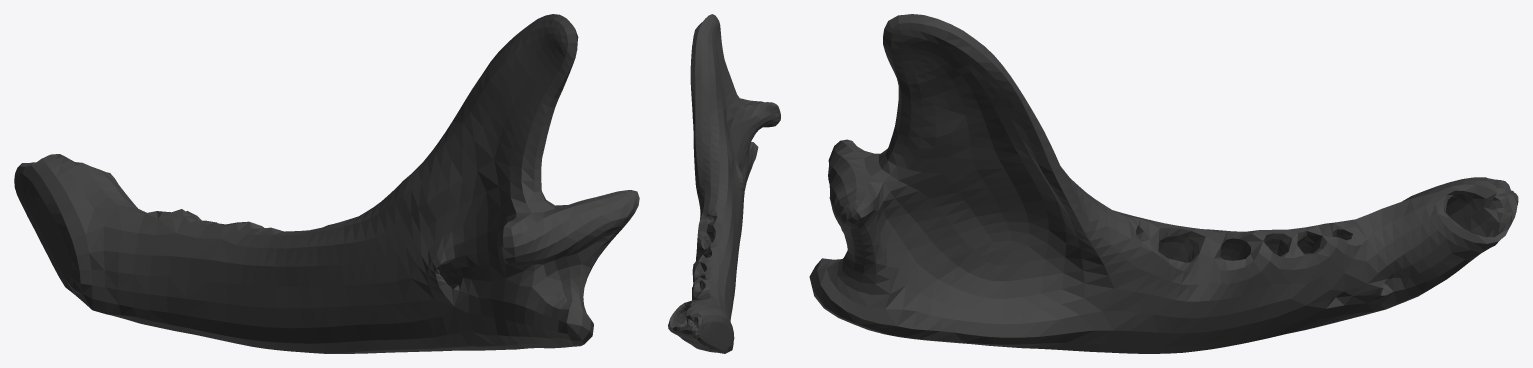
Rendered from Mandible.glb.
3 renders of one model, left to right at view 1: azimuth 30°, elevation 25°; view 2: azimuth 150°, elevation 25°; view 3: azimuth 270°, elevation 25°, orthographic. The views are drawn at different scales.
Parts seen in each view (by area): view 1: Mandible; view 2: Mandible; view 3: Mandible.
Boxes of the visible parts, x1,y1,x2,y2 form: Mandible: (14, 14, 639, 353); Mandible: (668, 14, 780, 353); Mandible: (809, 14, 1518, 353).
Size of the model in its own units: 0.3018 by 0.3633 by 0.5577.
Materials: 1 (1 with a texture image).
